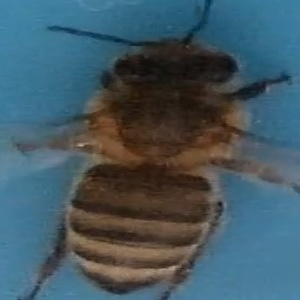bee: (20, 5, 295, 299)
